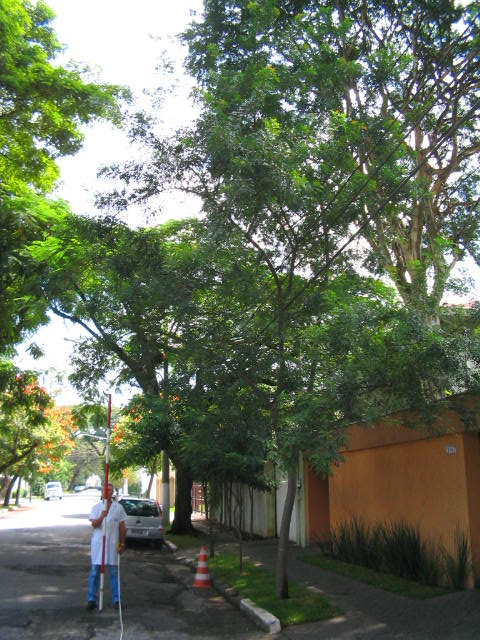stem: (264, 474, 310, 598), (164, 469, 200, 534)
stick: (94, 394, 118, 612)
